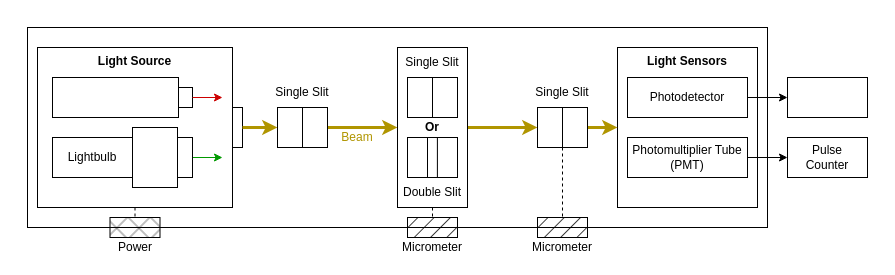
This 895x275 diagram has some shape labels left out. Each missing label, with the box of its shape:
Green Filter: (132, 126, 178, 188)
Red Laser: (52, 76, 178, 118)
Voltmeter: (786, 76, 868, 118)
